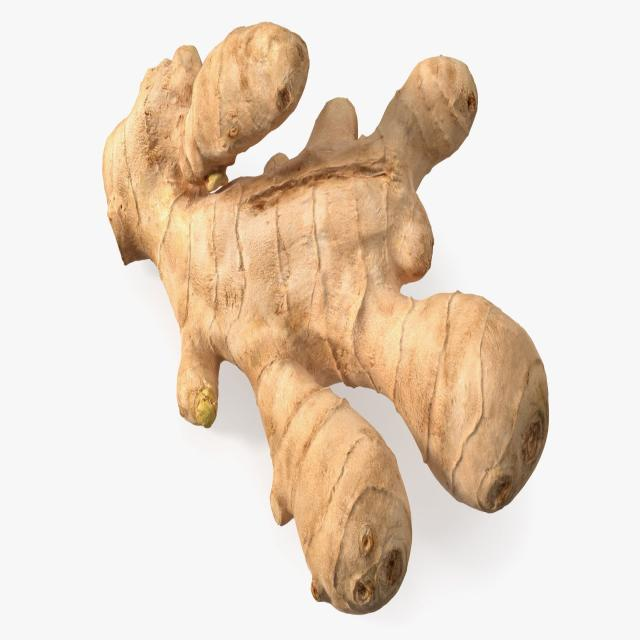ginger-root: (97, 16, 571, 626)
